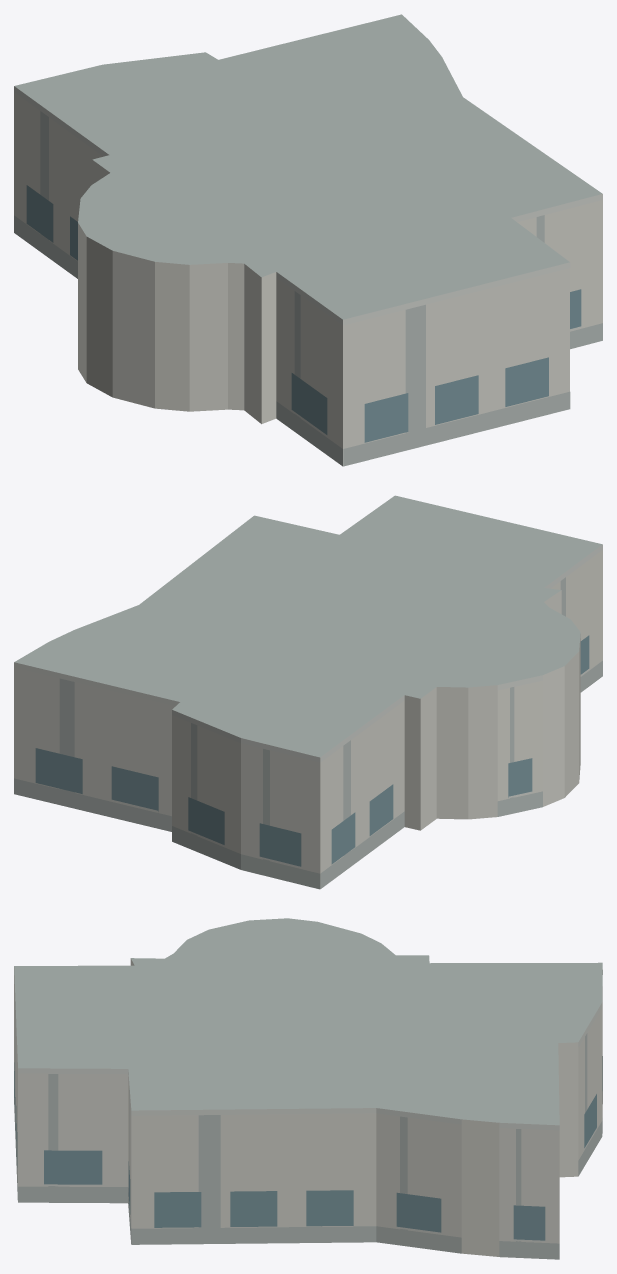
Rendered from survey-upis-32730862.glb.
3 renders of one model, top to bottom at view 1: azimuth 30°, elevation 25°; view 2: azimuth 150°, elevation 25°; view 3: azimuth 270°, elevation 25°, orthographic. The views are drawn at different scales.
Visible parts, largest first — view 1: survey-upis-32730862.tmp; view 2: survey-upis-32730862.tmp; view 3: survey-upis-32730862.tmp.
Boxes of the visible parts, x1,y1,x2,y2 form: survey-upis-32730862.tmp: [14, 14, 602, 466]; survey-upis-32730862.tmp: [14, 495, 602, 889]; survey-upis-32730862.tmp: [14, 918, 602, 1259].
Bounding box in the file's own units: 20.18 × 6.1 × 24.25.
